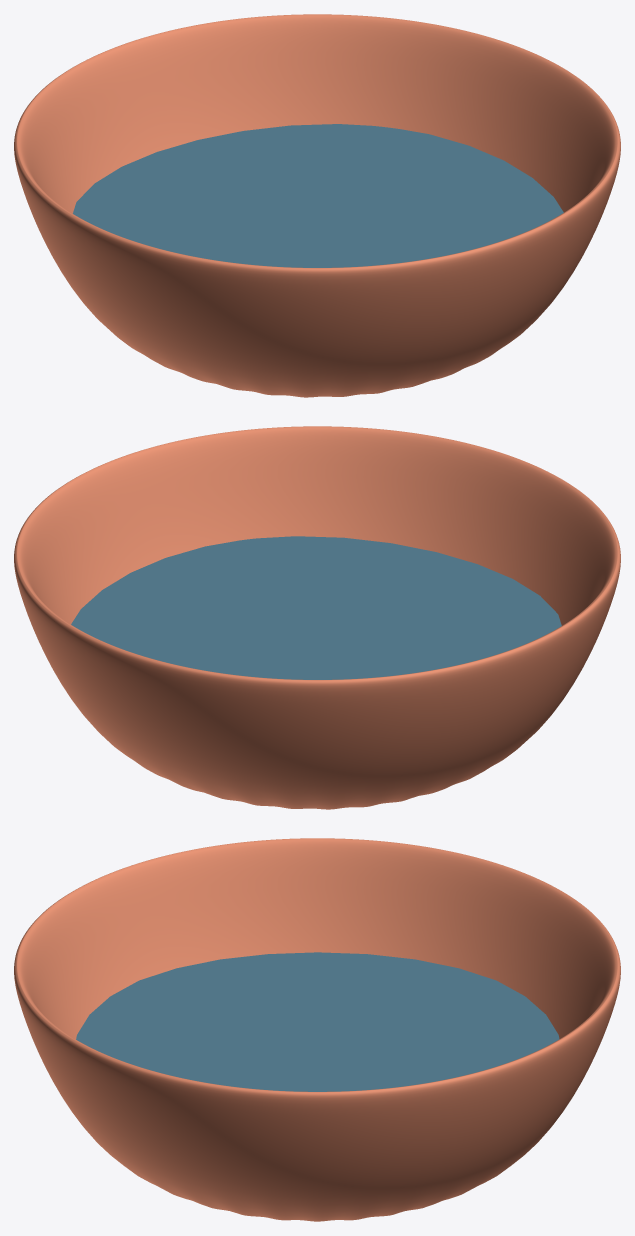
Rendered from cesto.fbx.
3 views of the same model, one above another, from view 1: azimuth 30°, elevation 25°; view 2: azimuth 150°, elevation 25°; view 3: azimuth 270°, elevation 25° (orthographic).
Parts seen in each view (by area): view 1: Cylinder.004, Plane.004; view 2: Cylinder.004, Plane.004; view 3: Cylinder.004, Plane.004.
Part boxes in pixels (x1=…): Cylinder.004: x1=14, y1=14, x2=620, y2=397; Plane.004: x1=73, y1=124, x2=563, y2=267; Cylinder.004: x1=14, y1=426, x2=620, y2=809; Plane.004: x1=71, y1=536, x2=561, y2=679; Cylinder.004: x1=14, y1=838, x2=620, y2=1221; Plane.004: x1=76, y1=952, x2=559, y2=1091.
Bounding box in the file's own units: 327 × 122 × 327.
